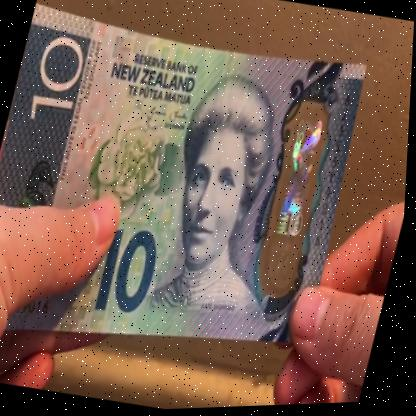10B: (258, 112, 334, 289)
